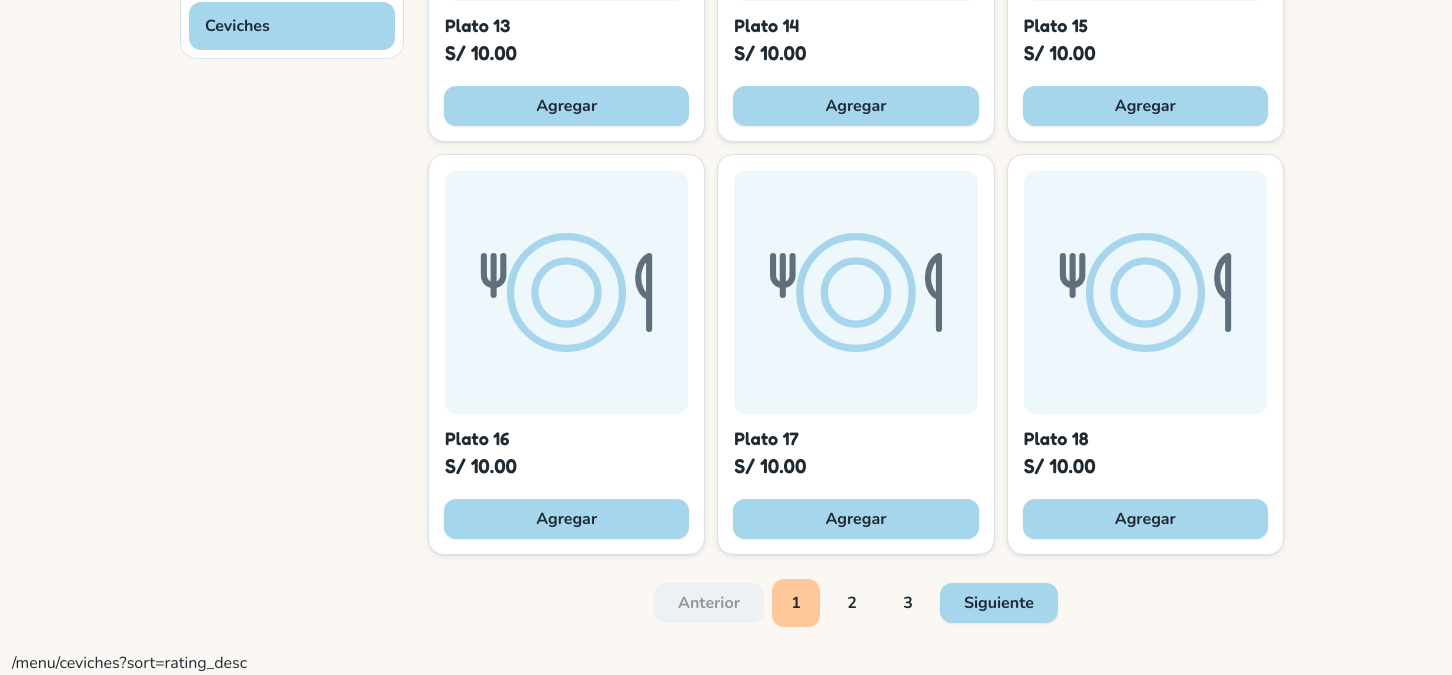
Test: CatalogPage › conserva el orden al cambiar de página
(page scrolled)
Click the button "Siguiente" at (999, 603), box [940,583,1058,623]
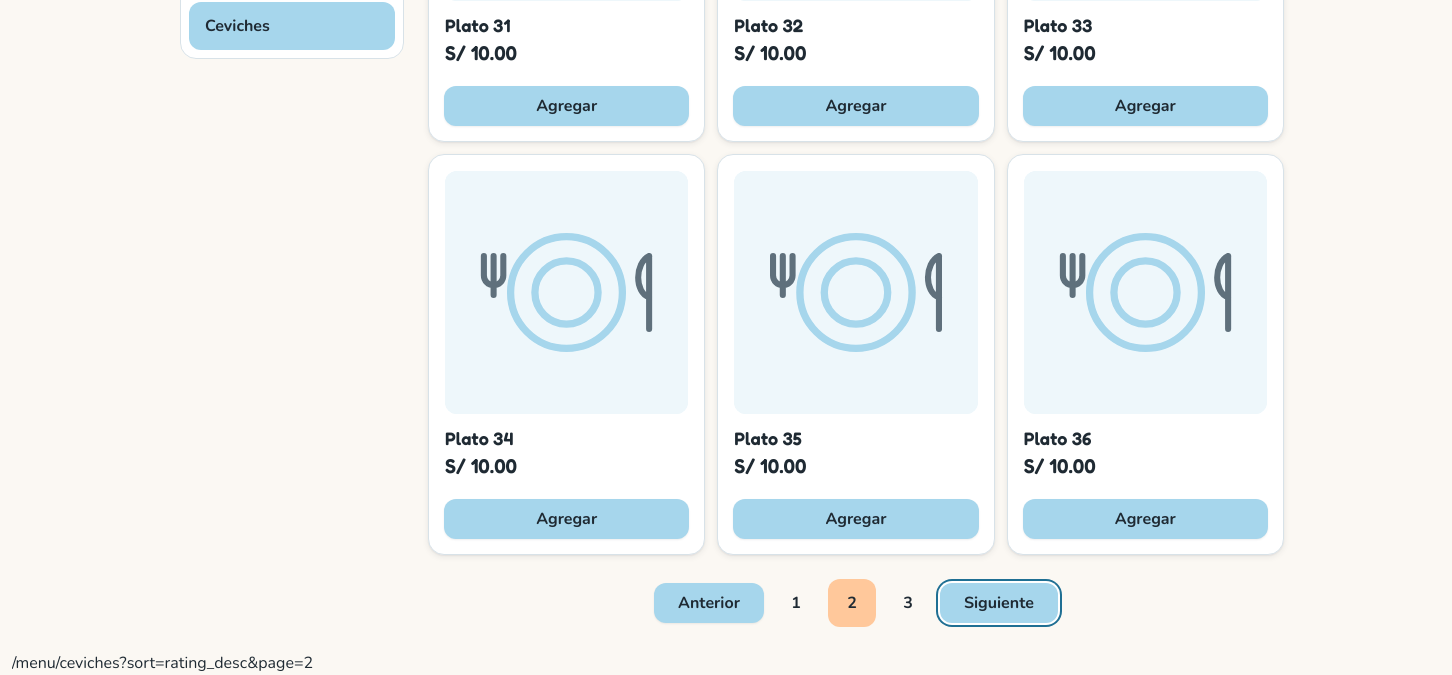
Check: the text with test id "location" reads "/menu/ceviches?sort=rating_desc&page=2", box [12,652,313,674]
